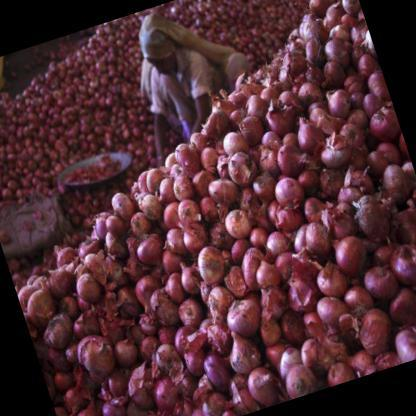onion: (215, 288, 270, 344), (189, 235, 233, 290), (222, 146, 262, 196), (134, 230, 172, 270), (250, 253, 285, 293), (175, 194, 206, 232)
